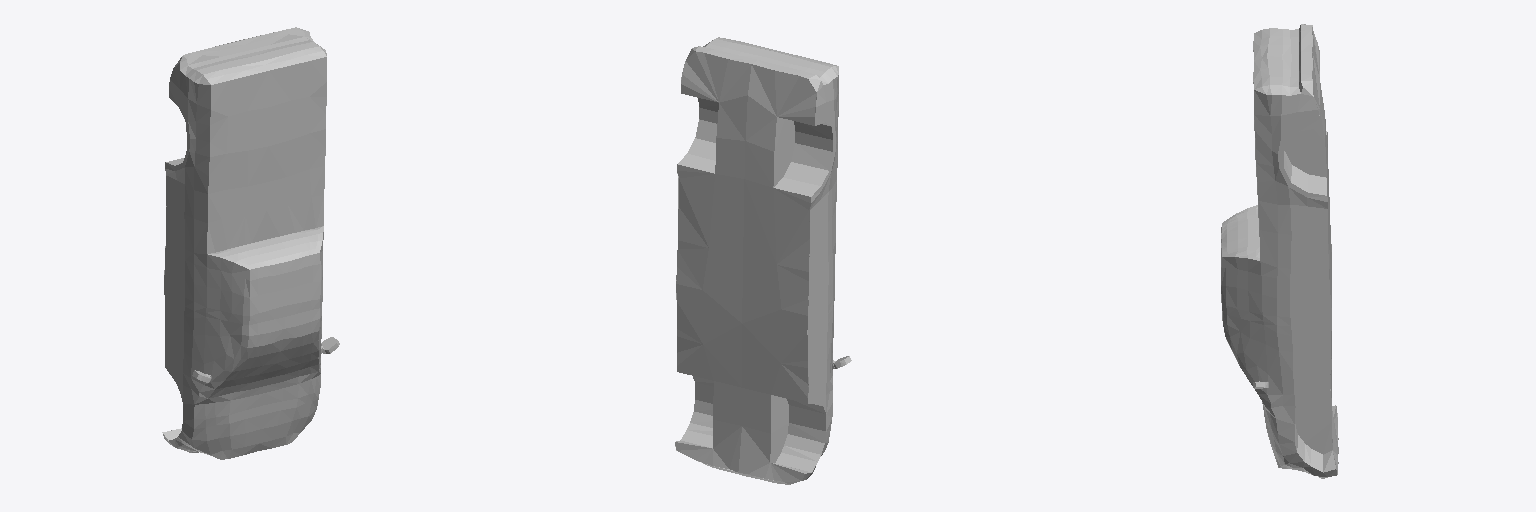
The model's file is chassis.obj.
3 renders of one model, left to right at view 1: azimuth 30°, elevation 25°; view 2: azimuth 150°, elevation 25°; view 3: azimuth 270°, elevation 25°, orthographic.
Size of the model in its own units: 50.72 by 138 by 36.26.